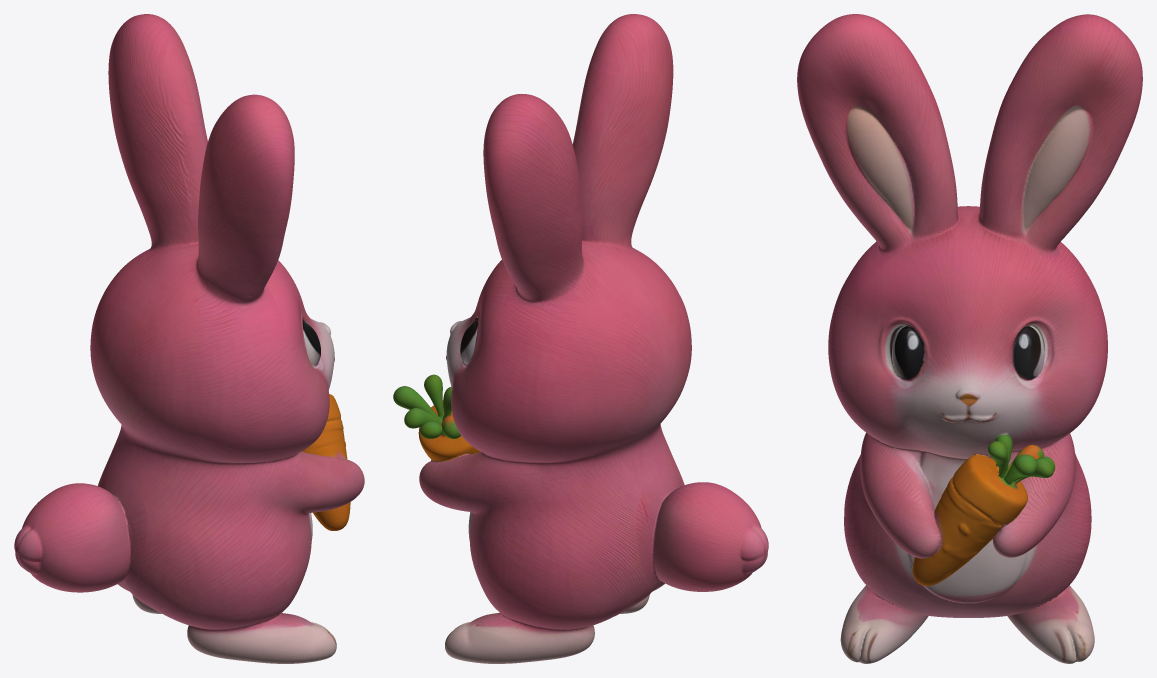
3 renders of one model, left to right at view 1: azimuth 30°, elevation 25°; view 2: azimuth 150°, elevation 25°; view 3: azimuth 270°, elevation 25°, orthographic. The views are drawn at different scales.
Visible parts, largest first — view 1: tripo_node_af7bb17f-a65d-4499-a55d-291dda123590; view 2: tripo_node_af7bb17f-a65d-4499-a55d-291dda123590; view 3: tripo_node_af7bb17f-a65d-4499-a55d-291dda123590.
Boxes of the visible parts, bbox=[...] form: tripo_node_af7bb17f-a65d-4499-a55d-291dda123590: bbox=[14, 14, 364, 663]; tripo_node_af7bb17f-a65d-4499-a55d-291dda123590: bbox=[393, 14, 768, 663]; tripo_node_af7bb17f-a65d-4499-a55d-291dda123590: bbox=[797, 14, 1142, 663].
Bounding box in the file's own units: 0.6188 × 1 × 0.5137.
Materials: 1 (1 with a texture image).
